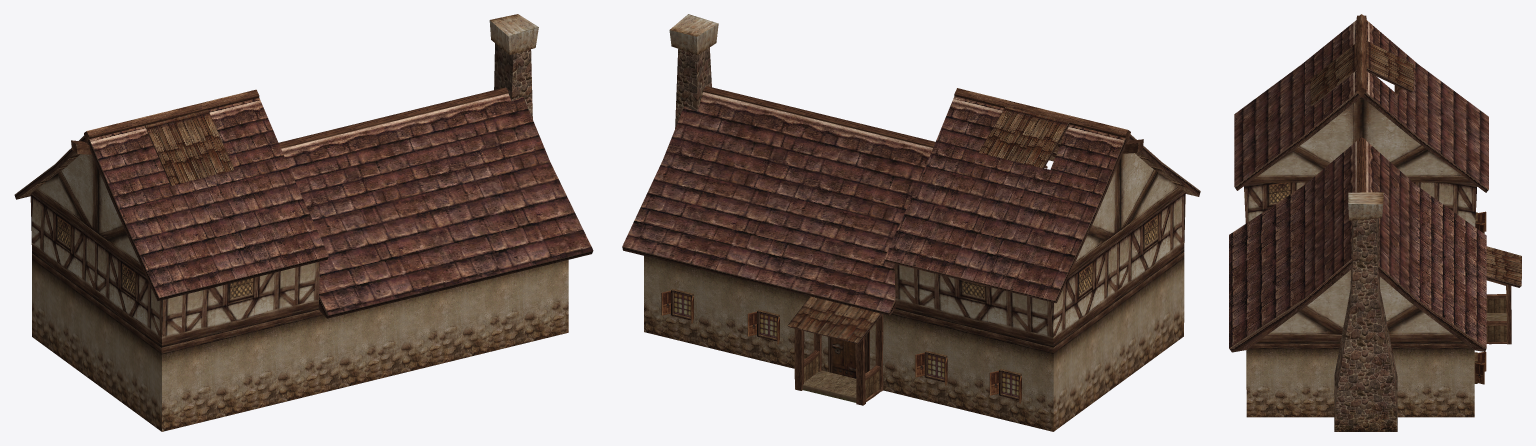
File: ti_house_02.glb
The picture shows the model from 3 angles, left to right: view 1: azimuth 30°, elevation 25°; view 2: azimuth 150°, elevation 25°; view 3: azimuth 270°, elevation 25°; orthographic projection. The views are drawn at different scales.
Visible parts, largest first — view 1: TI_House_02; view 2: TI_House_02; view 3: TI_House_02.
Part boxes in pixels (left/top/right/bottom): TI_House_02: left=14, top=14, right=593, bottom=431; TI_House_02: left=622, top=14, right=1200, bottom=431; TI_House_02: left=1229, top=14, right=1521, bottom=431.
Bounding box in the file's own units: 6.14 × 3.24 × 3.81.
Materials: 23 (23 with a texture image).
